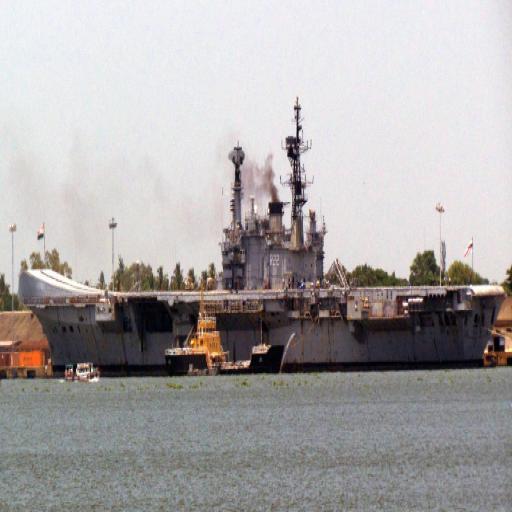Portanaves: (13, 87, 511, 384)
